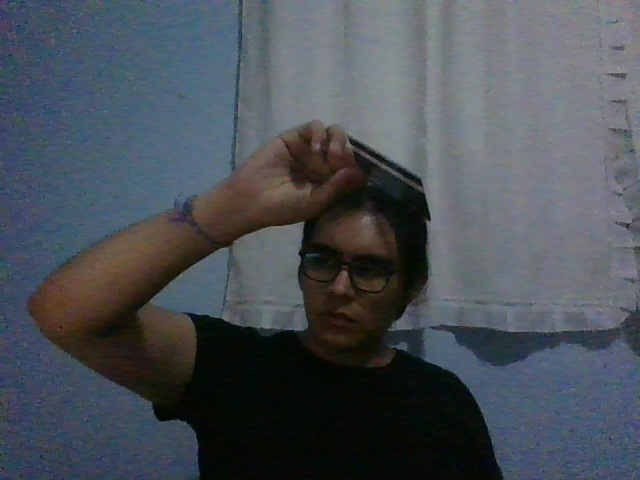tarjeta: (346, 134, 431, 222)
